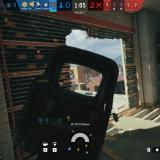Character: (70, 74, 76, 86)
Head: (72, 74, 74, 78)
